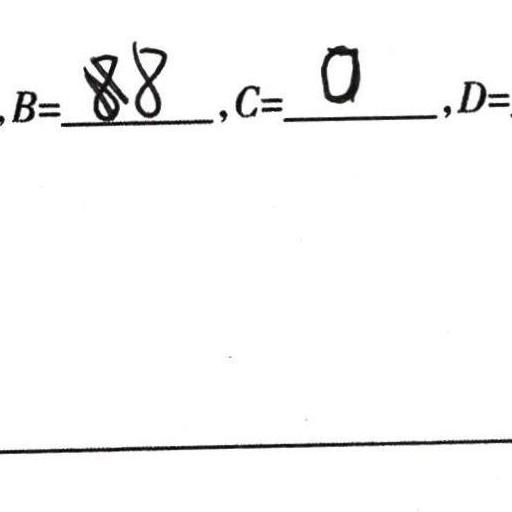ans: (130, 38, 168, 121), (318, 43, 363, 108)
